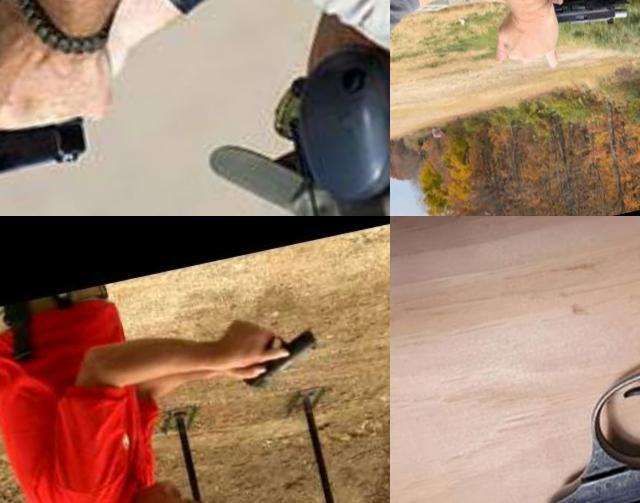handgun: (390, 216, 640, 503), (0, 74, 96, 197), (226, 321, 326, 398), (516, 0, 633, 60)
